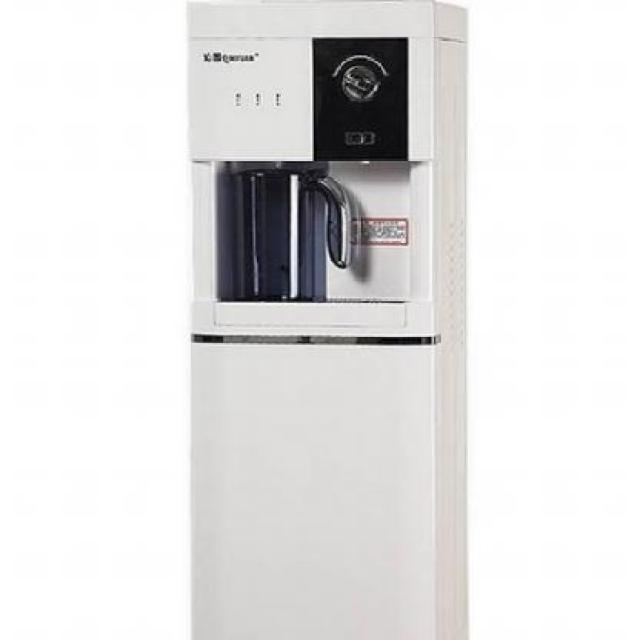cooler: (183, 0, 469, 640)
